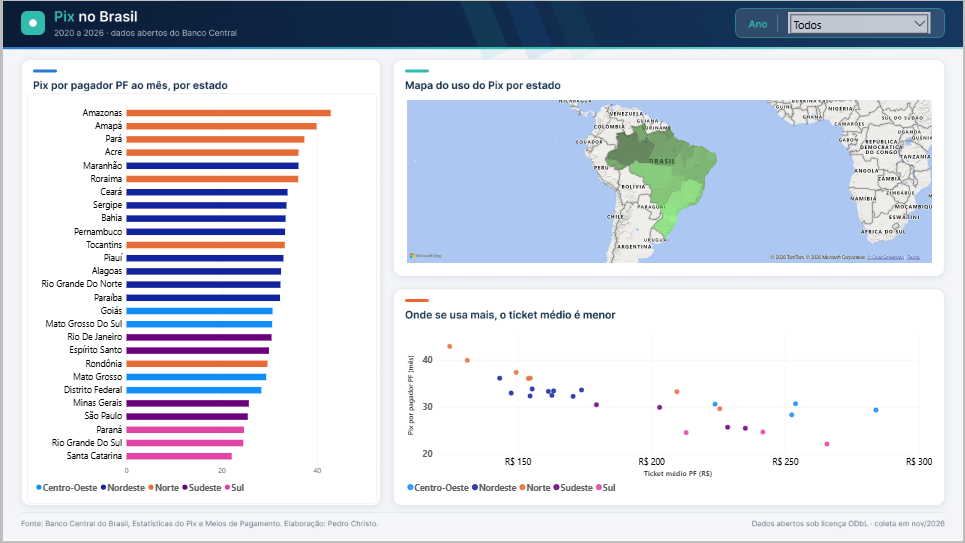

Layout of this report page (visuals, bound fields, positions):
{"tool":"powerbi","page":{"name":"Onde é mais usado","canvas":[1920,1080],"ordinal":3},"visuals":[{"type":"barChart","fields":{"Category":["dEstado.UF"],"Series":["dEstado.Regiao"],"Y":["_Medidas.Pix por pagador PF (mês)"]},"box":[47,184,700,821],"z":0},{"type":"scatterChart","fields":{"Category":["dEstado.UF"],"Series":["dEstado.Regiao"],"X":["_Medidas.Ticket médio PF (R$)"],"Y":["_Medidas.Pix por pagador PF (mês)"]},"box":[791.2,647.5,1082.5,356.2],"z":1000},{"type":"filledMap","fields":{"Category":["dEstado.UF"]},"box":[791.2,183.8,1082.5,356.2],"z":2000},{"type":"slicer","fields":{"Values":["dCalendario.Ano"]},"box":[1570,22.5,285,42.5],"z":3000}]}

Visuals, with their boxes in screenshot pixels (x1, y1, x2, y2), scaled from the page's 1920x1080 canvas onto the 965x543 screenshot:
barChart - dEstado.UF x dEstado.Regiao: detection(24, 93, 375, 505)
scatterChart - dEstado.UF x dEstado.Regiao: detection(398, 326, 942, 505)
filledMap - dEstado.UF: detection(398, 92, 942, 272)
slicer - dCalendario.Ano: detection(789, 11, 932, 33)
